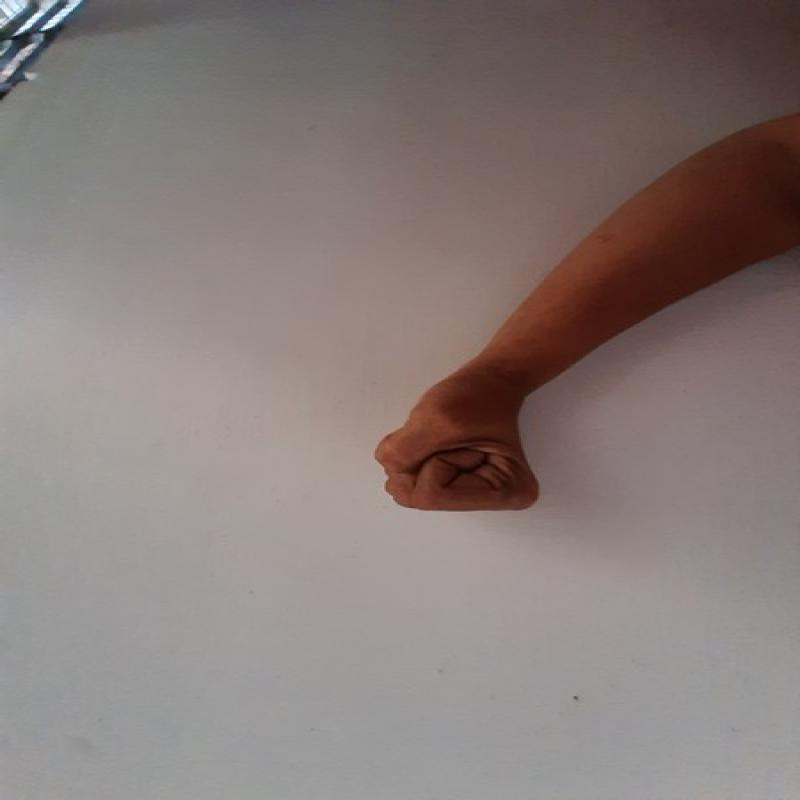Mushti: (351, 365, 559, 530)
